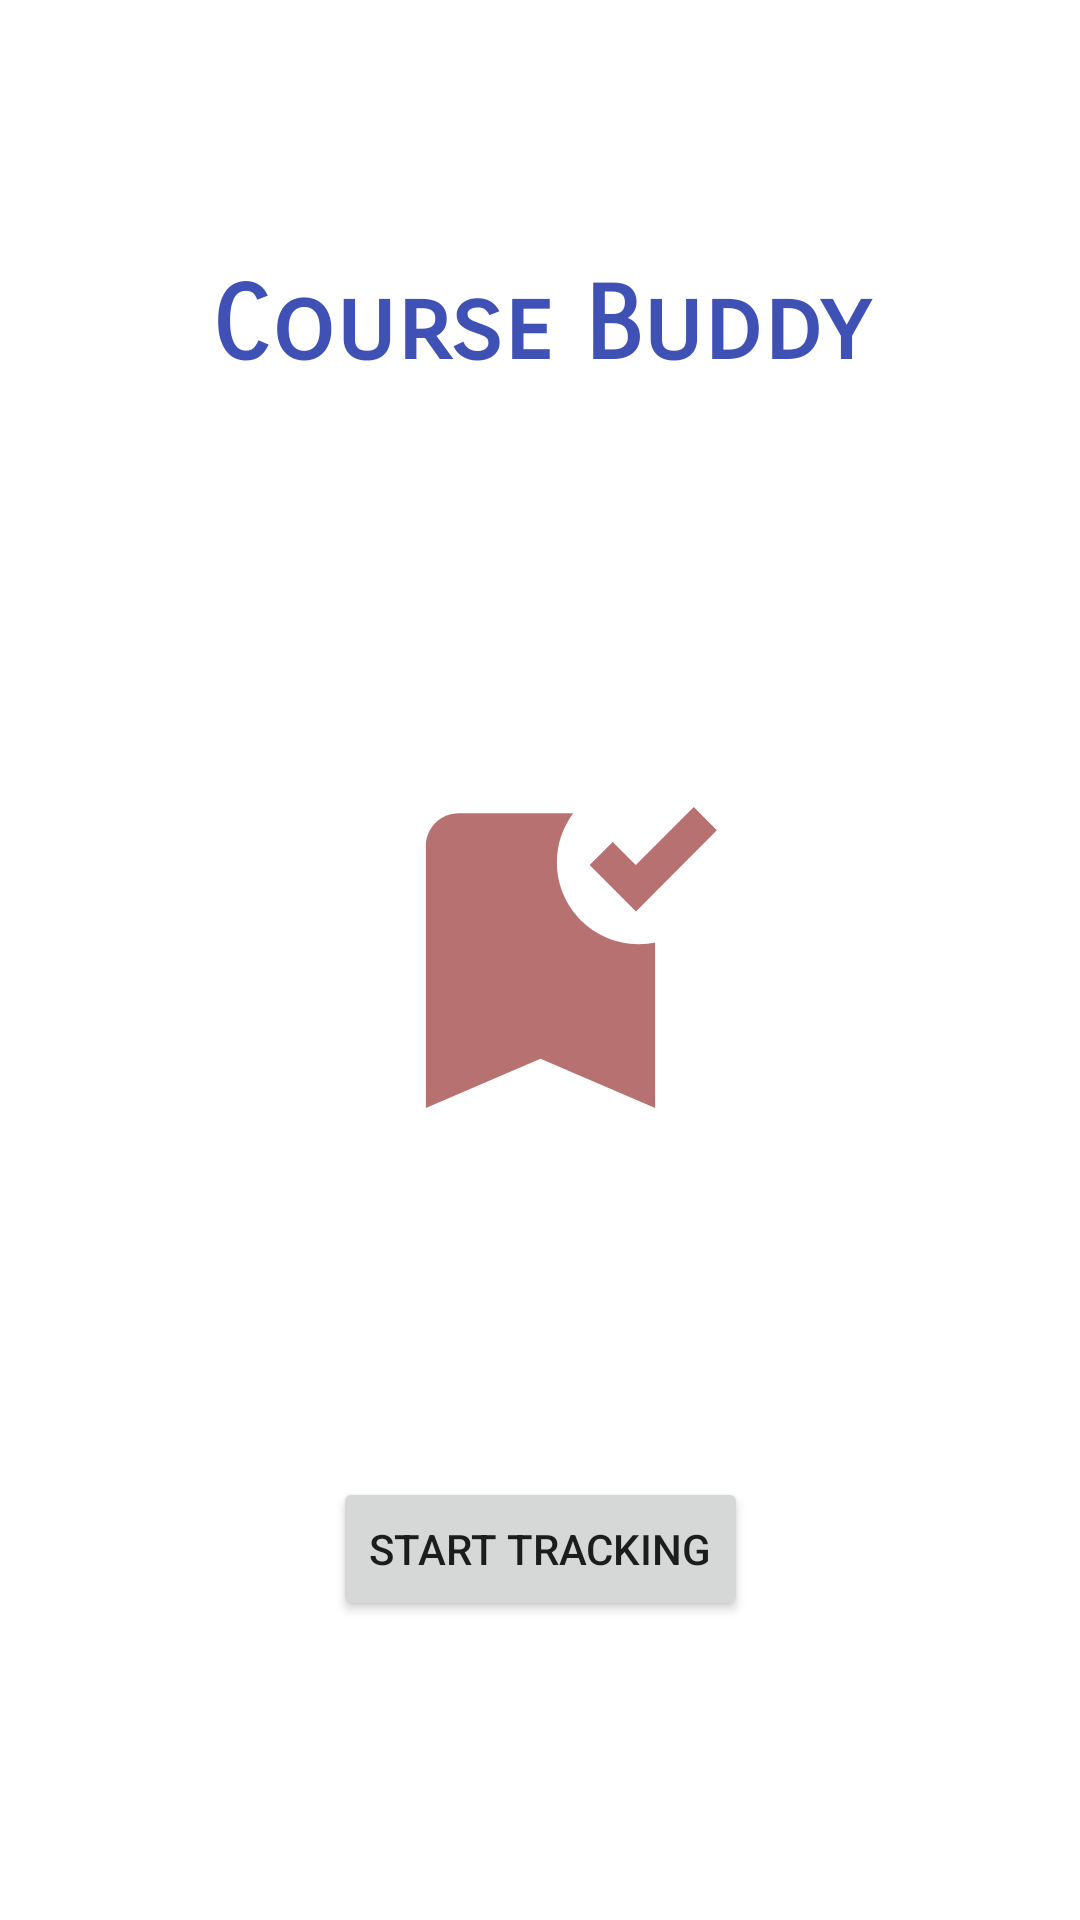

Screen size 1080px x 1920px. Icon name, then its center in pixels as (x,y):
bookmark added: (571,957)
